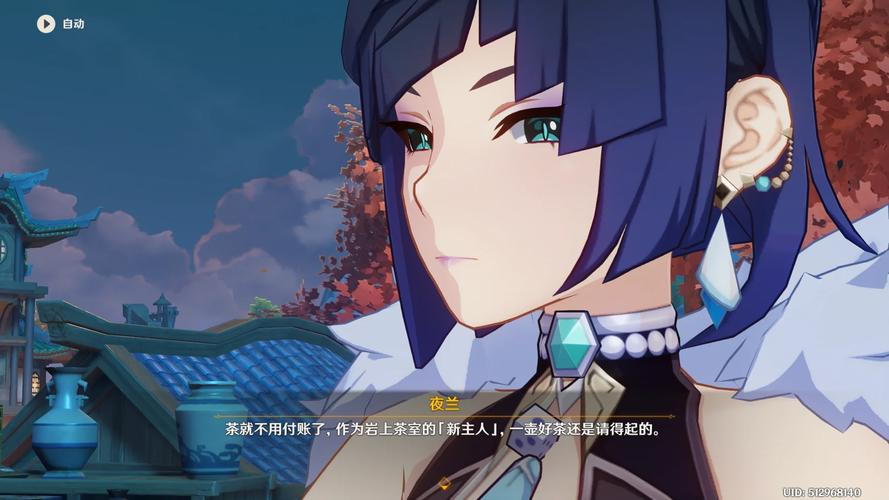夜兰: (292, 2, 889, 500)
